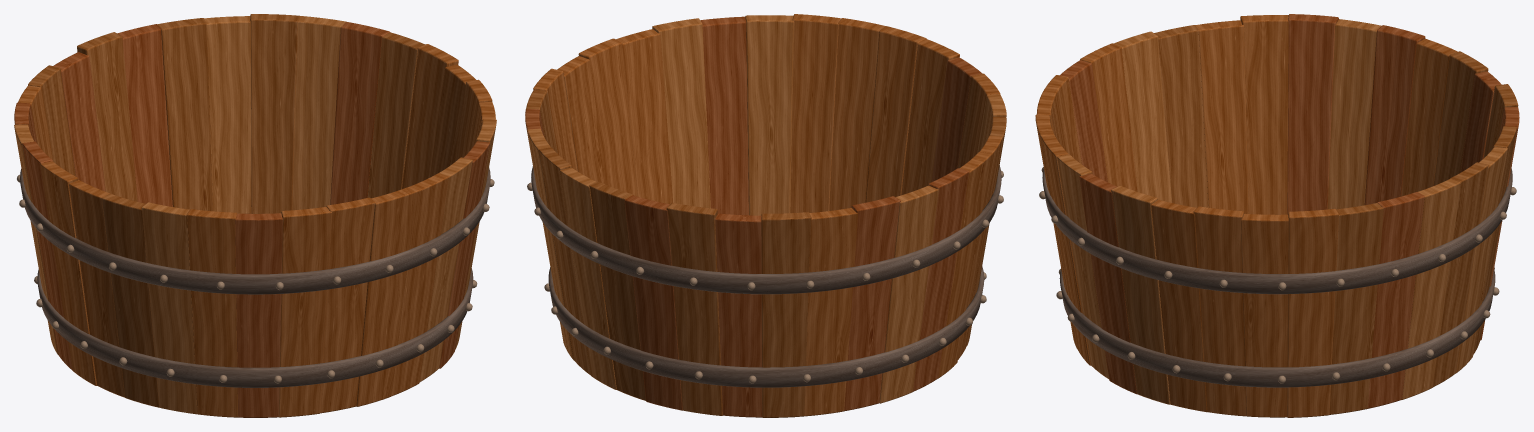
Rendered from wooden-wash-tub.glb.
3 views of the same model, side by side, from view 1: azimuth 30°, elevation 25°; view 2: azimuth 150°, elevation 25°; view 3: azimuth 270°, elevation 25° (orthographic).
Parts seen in each view (by area): view 1: 31 individual oak staves, Upper forged iron hoop, Lower forged iron hoop, Lower hoop rivets, Upper hoop rivets; view 2: 31 individual oak staves, Upper forged iron hoop, Lower forged iron hoop, Upper hoop rivets, Lower hoop rivets; view 3: 31 individual oak staves, Upper forged iron hoop, Lower forged iron hoop, Lower hoop rivets, Upper hoop rivets.
Boxes of the visible parts, x1,y1,x2,y2 form: 31 individual oak staves: (14,14,496,417); Upper forged iron hoop: (20,167,490,294); Lower forged iron hoop: (37,268,473,387); Lower hoop rivets: (34,276,477,383); Upper hoop rivets: (17,174,494,290); 31 individual oak staves: (525,14,1006,417); Upper forged iron hoop: (531,165,1001,294); Lower forged iron hoop: (548,266,984,387); Upper hoop rivets: (527,170,1003,290); Lower hoop rivets: (544,272,986,383); 31 individual oak staves: (1035,14,1519,417); Upper forged iron hoop: (1042,168,1512,294); Lower forged iron hoop: (1059,269,1495,387); Lower hoop rivets: (1056,267,1499,383); Upper hoop rivets: (1039,166,1516,290).
Bounding box in the file's own units: 1.08 × 0.535 × 1.08.
Materials: 6 (6 with a texture image).
